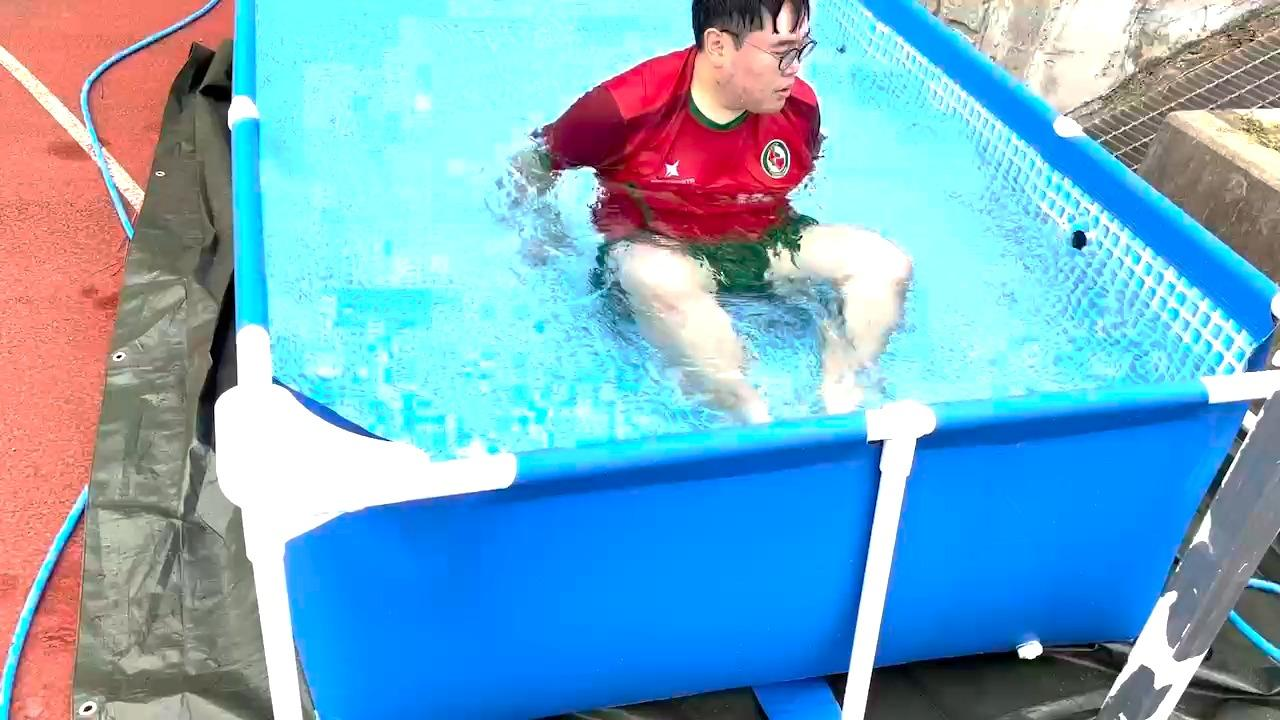Swimming: (506, 0, 1029, 409)
